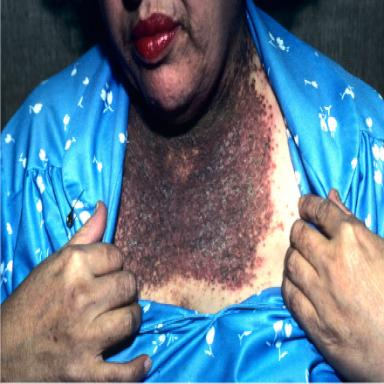Darier_s-Disease: (115, 27, 285, 296)
